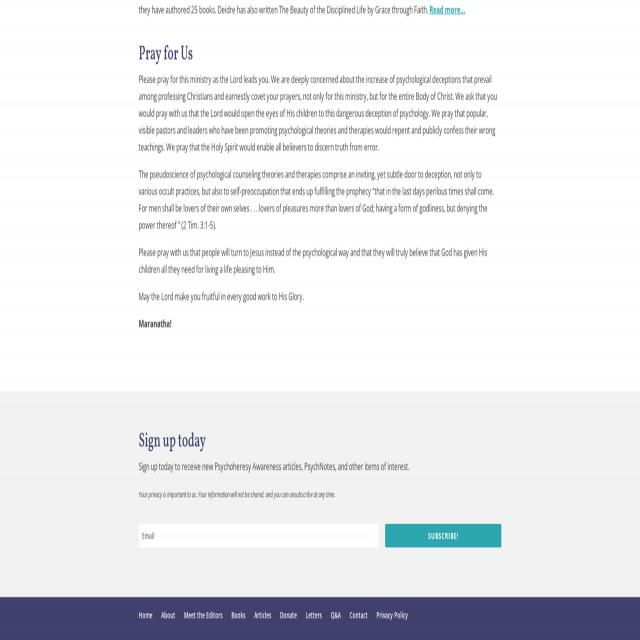button: (385, 524, 501, 547)
field: (139, 524, 378, 547)
